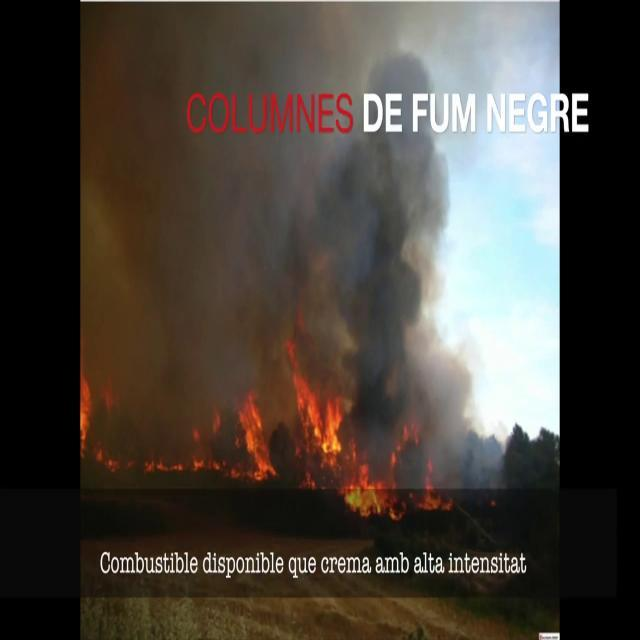Fire: (293, 367, 349, 467), (235, 393, 275, 483), (340, 462, 398, 520), (80, 342, 95, 463)
Smoke: (80, 0, 486, 489)
